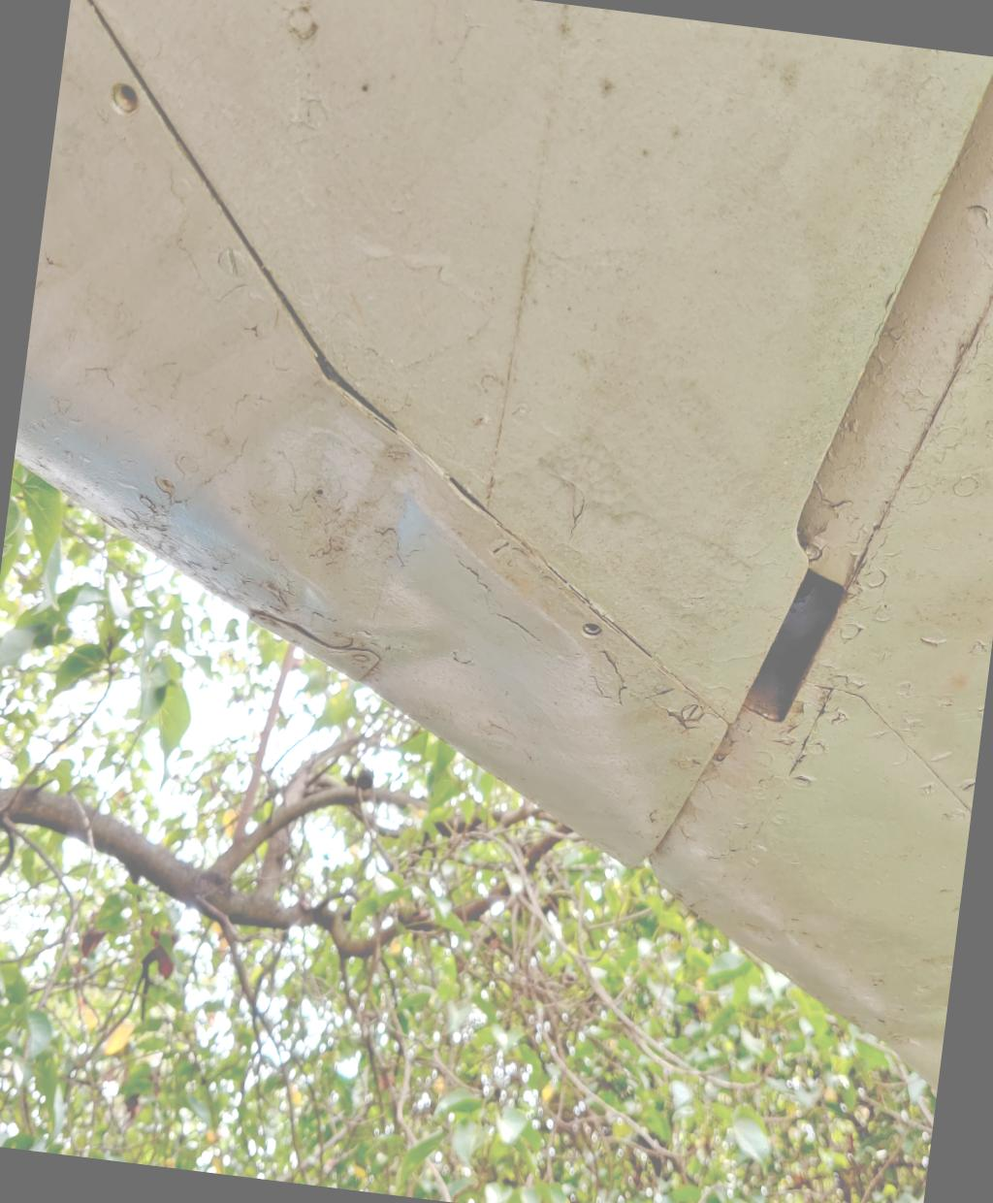dent: (179, 375, 506, 709)
